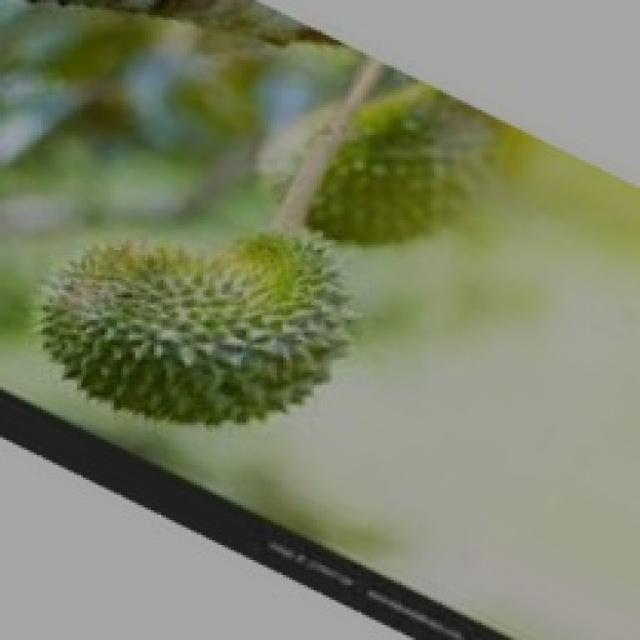fruit: (0, 160, 403, 500)
